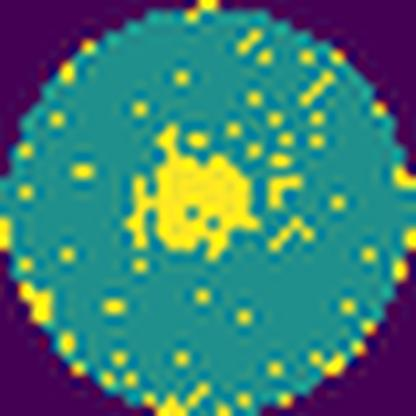Center: (131, 127, 261, 260)
